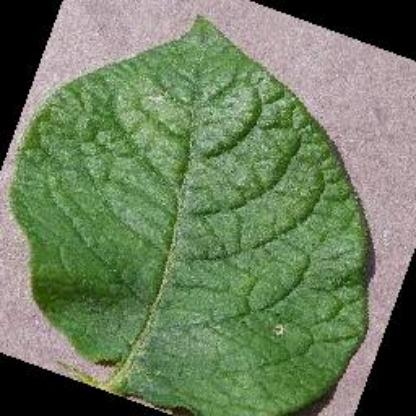Healthy-plant: (4, 15, 376, 416)
